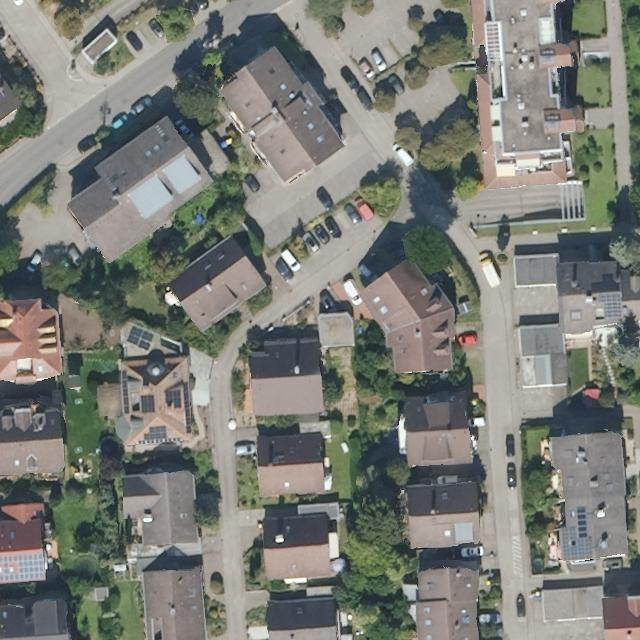PV: (1, 551, 48, 586), (557, 524, 596, 563), (124, 323, 156, 353), (180, 379, 193, 435), (596, 292, 624, 318), (140, 422, 171, 444), (119, 369, 133, 416), (163, 387, 184, 412), (140, 392, 158, 415)
